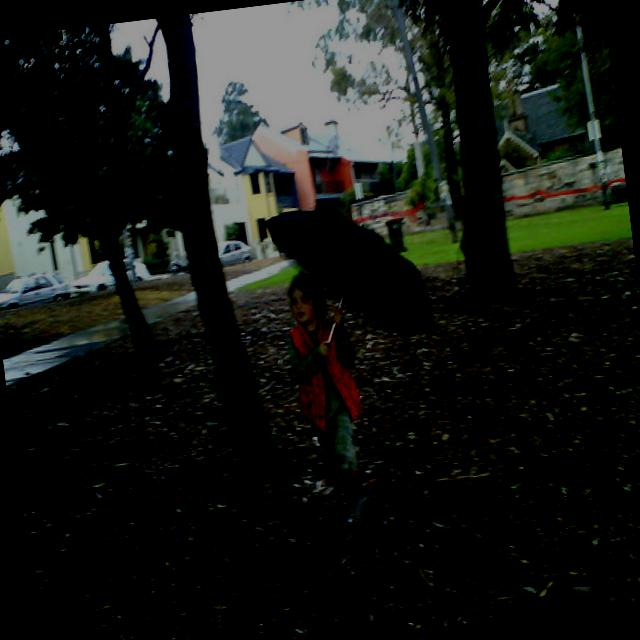Vehicle: (0, 270, 72, 310), (67, 253, 136, 294), (216, 238, 258, 267), (169, 253, 190, 276)
